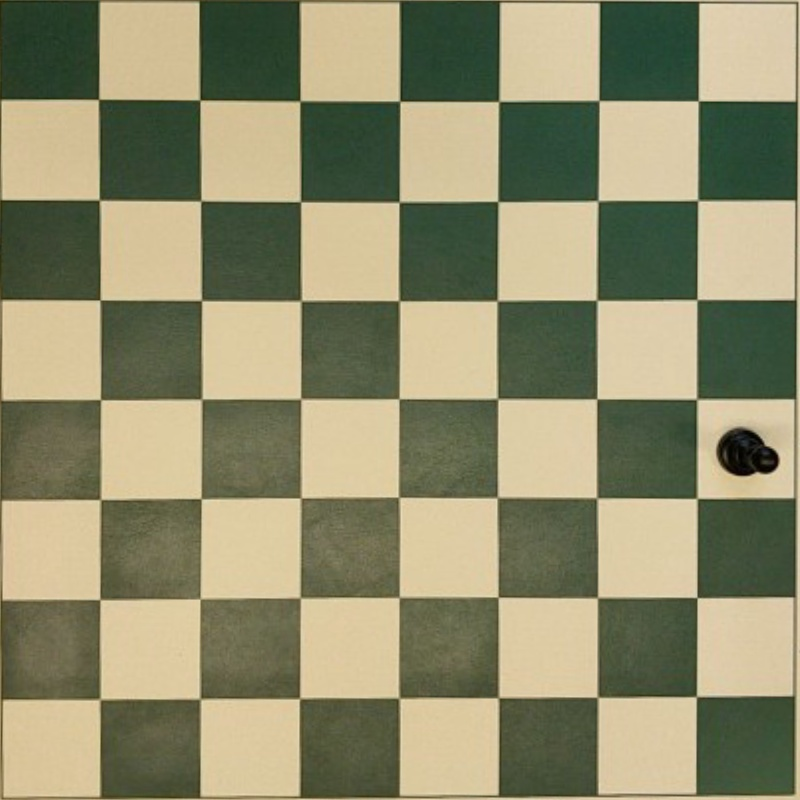black-pawn: (717, 427, 780, 477)
